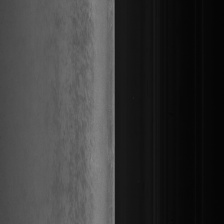silk_spot: (67, 23, 95, 205)
